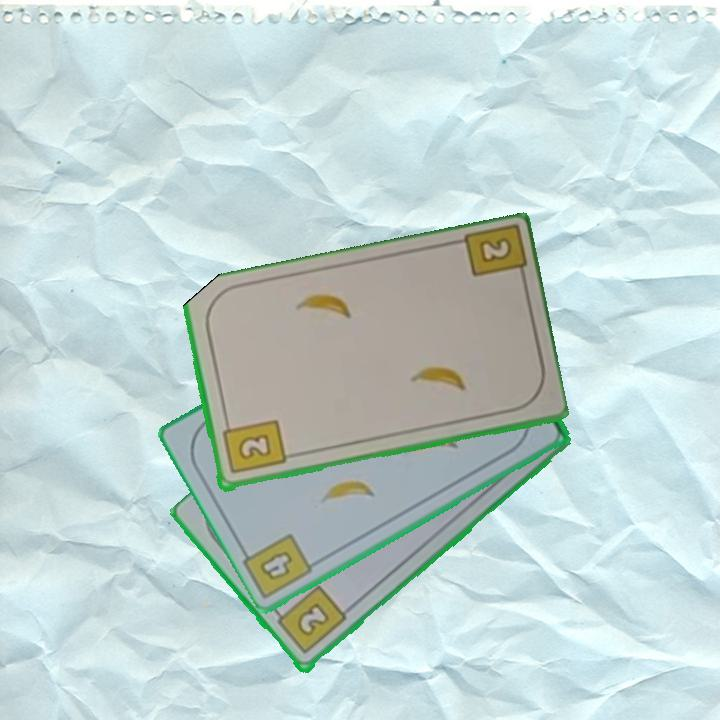2b: (270, 582, 350, 658), (458, 224, 529, 288), (219, 416, 288, 477)
4b: (255, 547, 296, 584)
